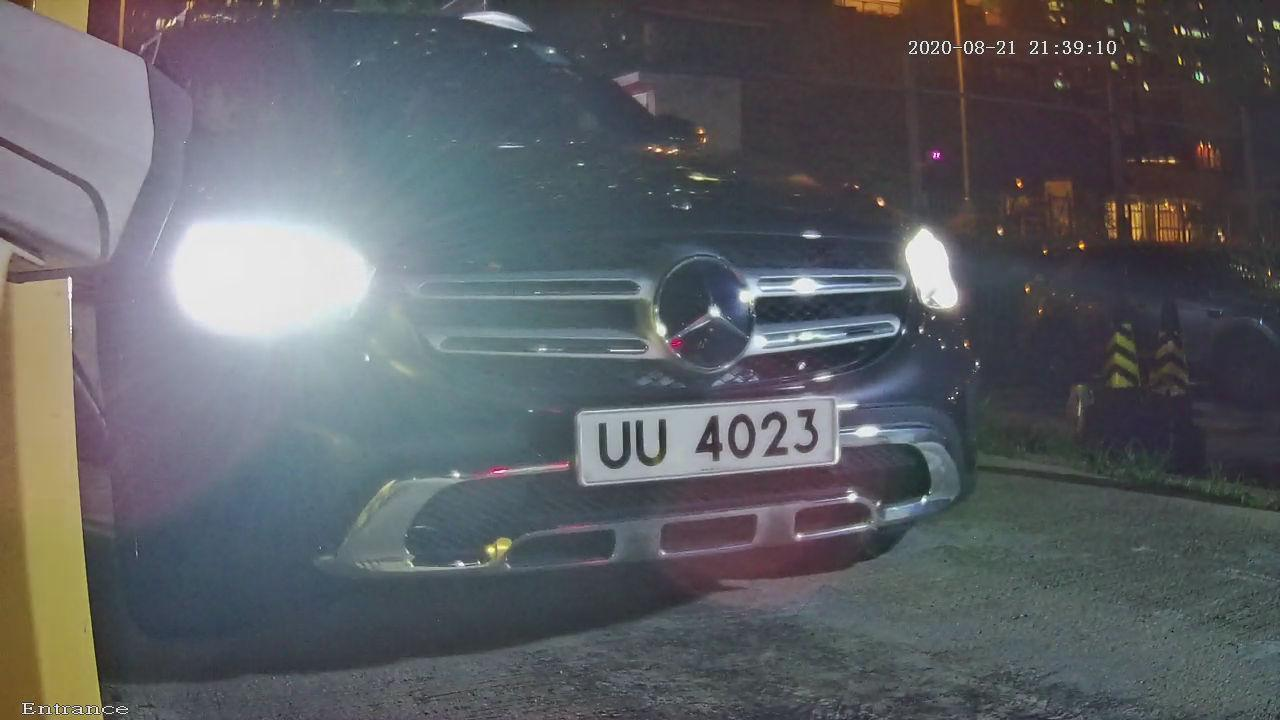License Plate: (561, 386, 852, 492)
